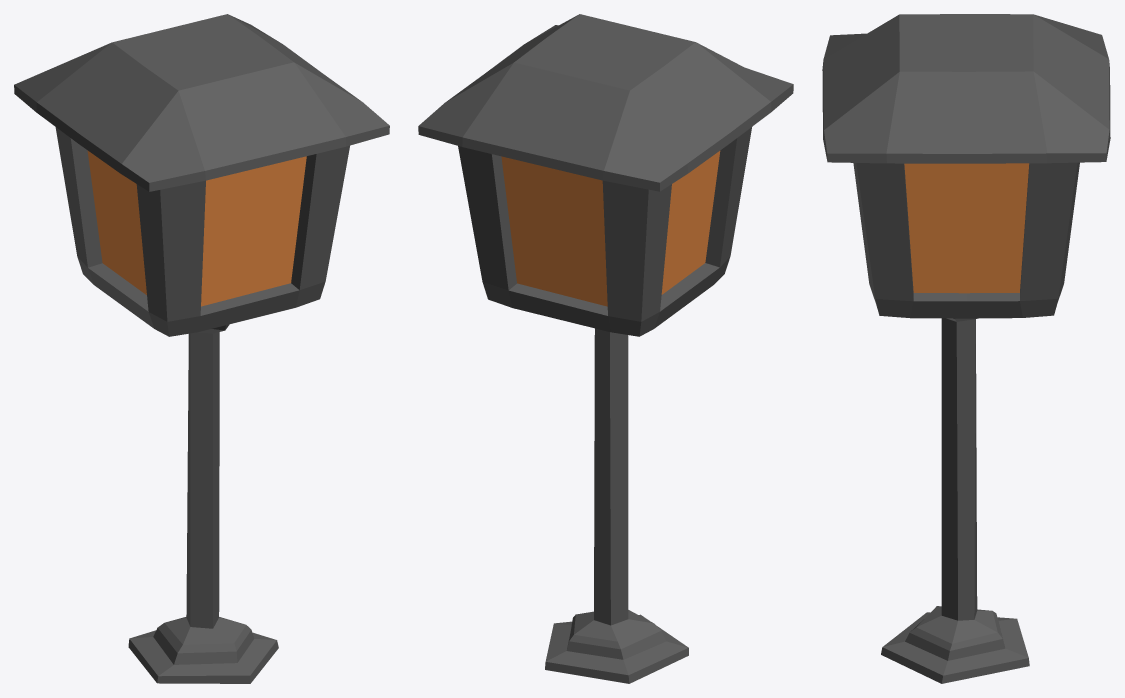
File: Lamp_8.fbx
The picture shows the model from 3 angles, left to right: view 1: azimuth 30°, elevation 25°; view 2: azimuth 150°, elevation 25°; view 3: azimuth 270°, elevation 25°; orthographic projection.
Parts seen in each view (by area): view 1: Lamp_8; view 2: Lamp_8; view 3: Lamp_8.
Boxes of the visible parts, x1,y1,x2,y2 form: Lamp_8: (14, 14, 389, 683); Lamp_8: (418, 14, 793, 683); Lamp_8: (822, 14, 1110, 683).
Bounding box in the file's own units: 24.66 × 24.67 × 57.6.
